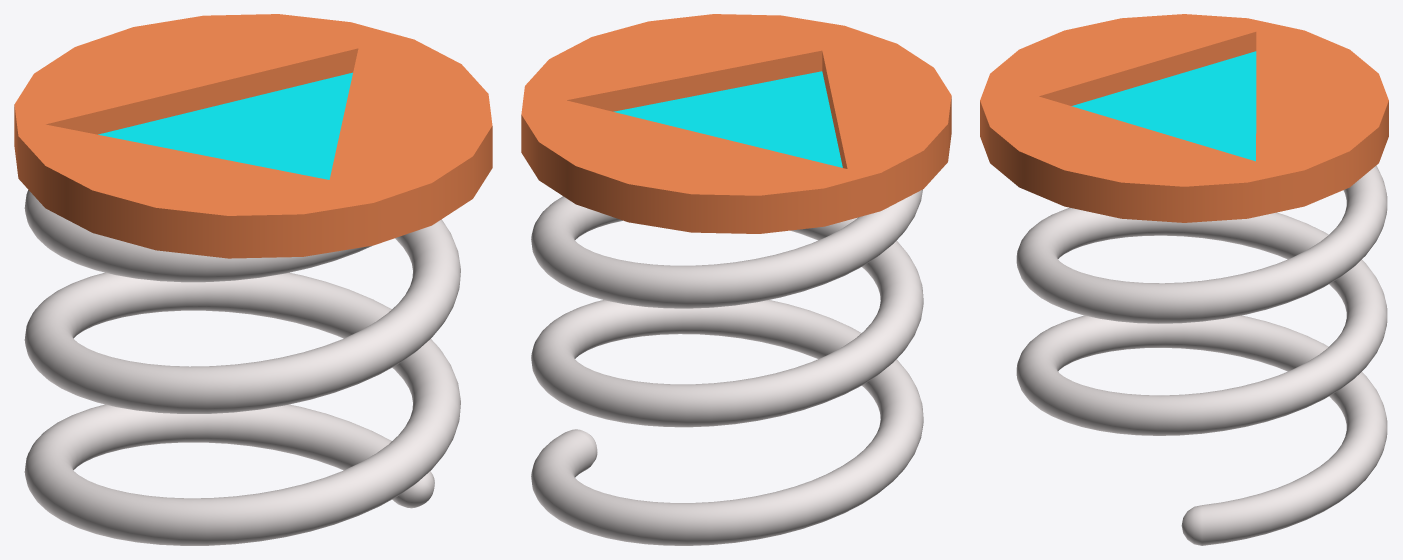
The model's file is spring_with_Arrow_04.glb.
3 views of the same model, side by side, from view 1: azimuth 30°, elevation 25°; view 2: azimuth 150°, elevation 25°; view 3: azimuth 270°, elevation 25° (orthographic). The views are drawn at different scales.
Visible parts, largest first — view 1: polySurface4, polySurface5; view 2: polySurface4, polySurface5; view 3: polySurface4, polySurface5.
Boxes of the visible parts, x1,y1,x2,y2 form: polySurface4: (14, 14, 492, 258); polySurface5: (24, 190, 460, 545); polySurface4: (521, 14, 951, 233); polySurface5: (531, 189, 923, 545); polySurface4: (980, 14, 1388, 222); polySurface5: (1016, 165, 1387, 545).
Size of the model in its own units: 0.2512 by 0.2535 by 0.2512.
